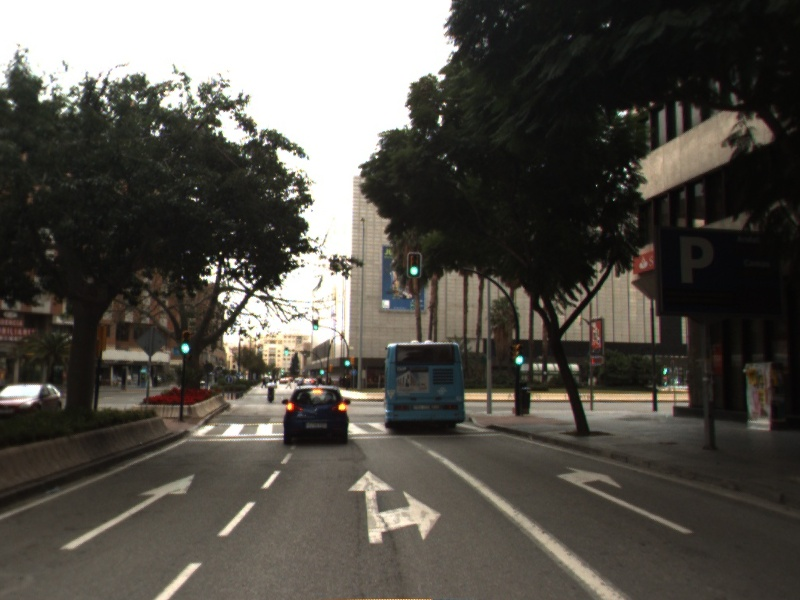RIGHT: (554, 464, 698, 536)
STRAIGHT: (58, 471, 198, 553)
STRAIGHT_RIGHT: (344, 467, 444, 546)
